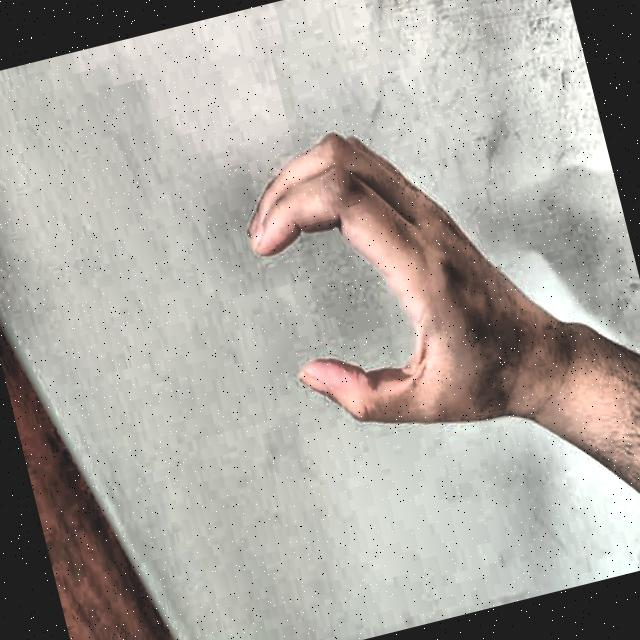A: (200, 82, 542, 502)
